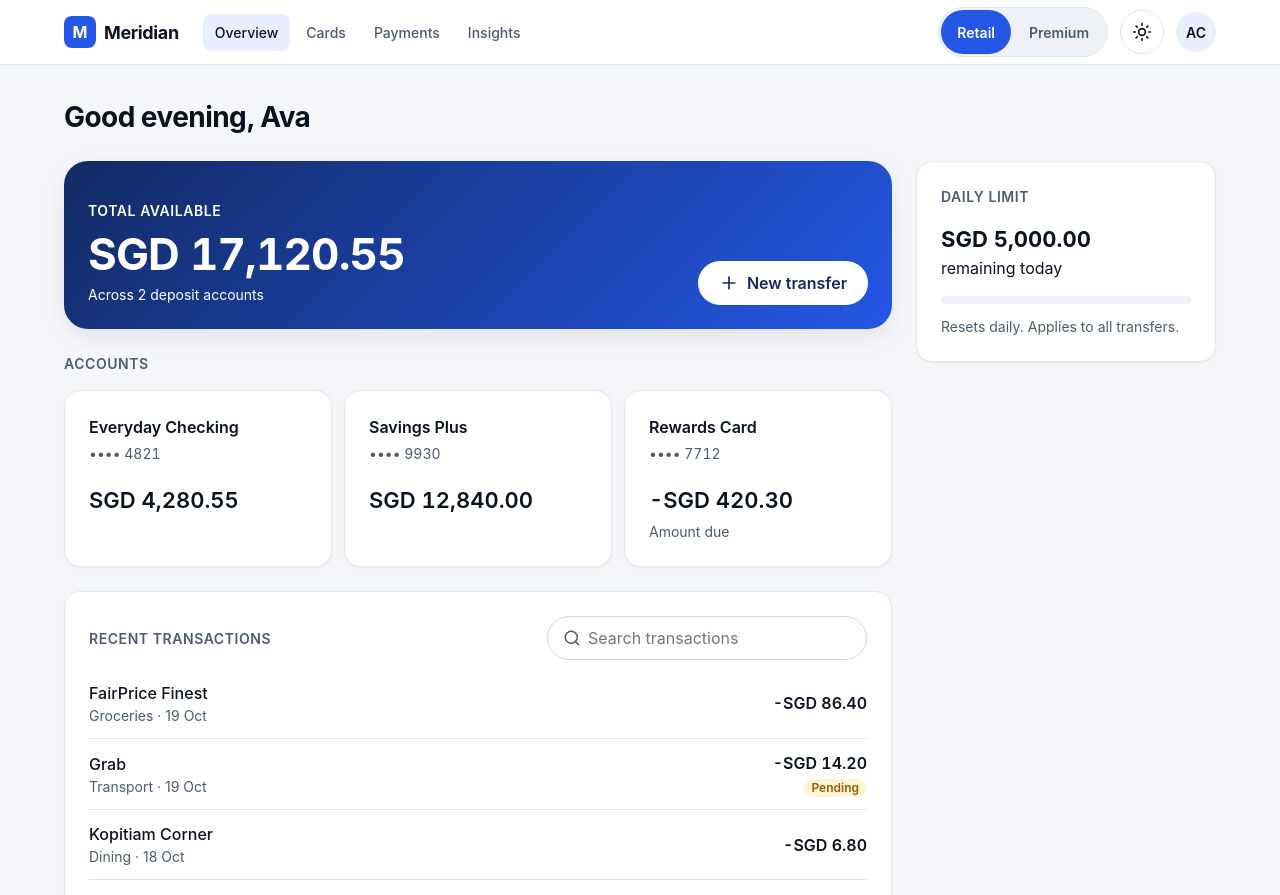
Scenario: dashboard › filters transactions by category, and clears a search with no matches
# Category match, ignoring case.
In the search field labelled "Search transactions": (707, 638) top-left (547, 616), bottom-right (867, 660), type "DINING"
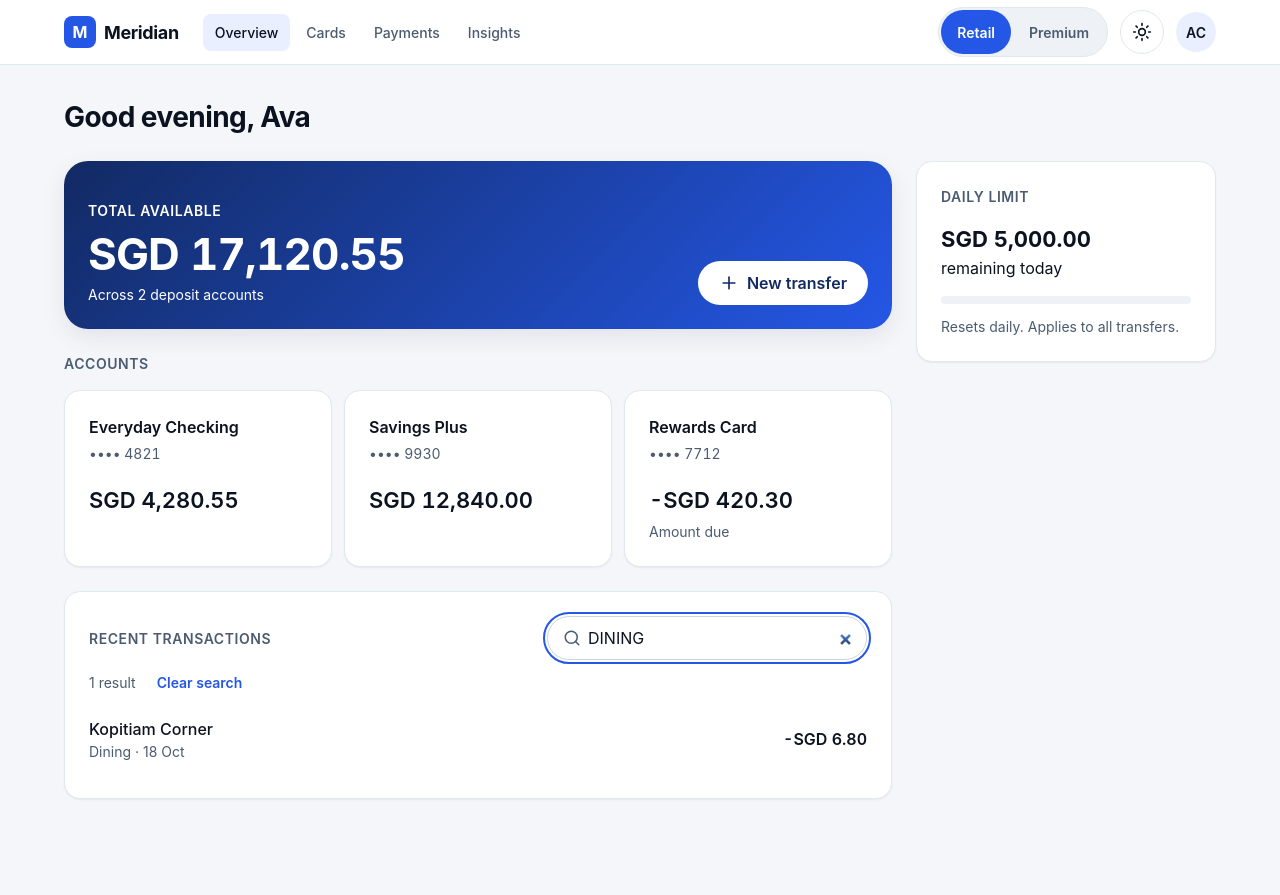
Expected: the text "Kopitiam Corner" is shown, top-left (89, 716), bottom-right (213, 740)
Expected: the text "FairPrice Finest" is gone
Expected: the text "1 result" is shown, top-left (89, 672), bottom-right (136, 692)
Replace the text in the search field named "Search transactions" with "zzz": (707, 638) top-left (547, 616), bottom-right (867, 660)
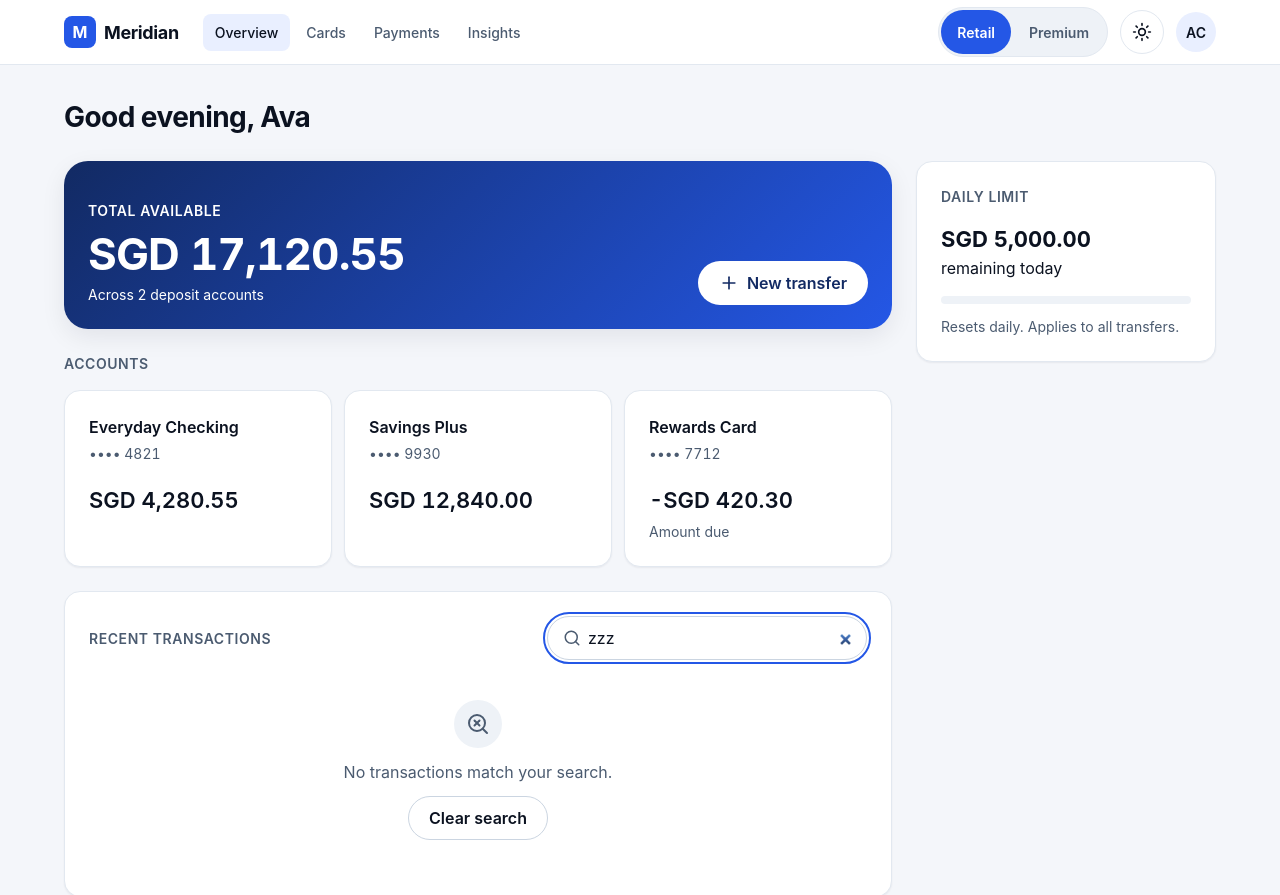
Expected: the text "No transactions match your search." is shown, top-left (344, 760), bottom-right (612, 784)
Click the button "Clear search": (478, 818) top-left (408, 796), bottom-right (548, 840)
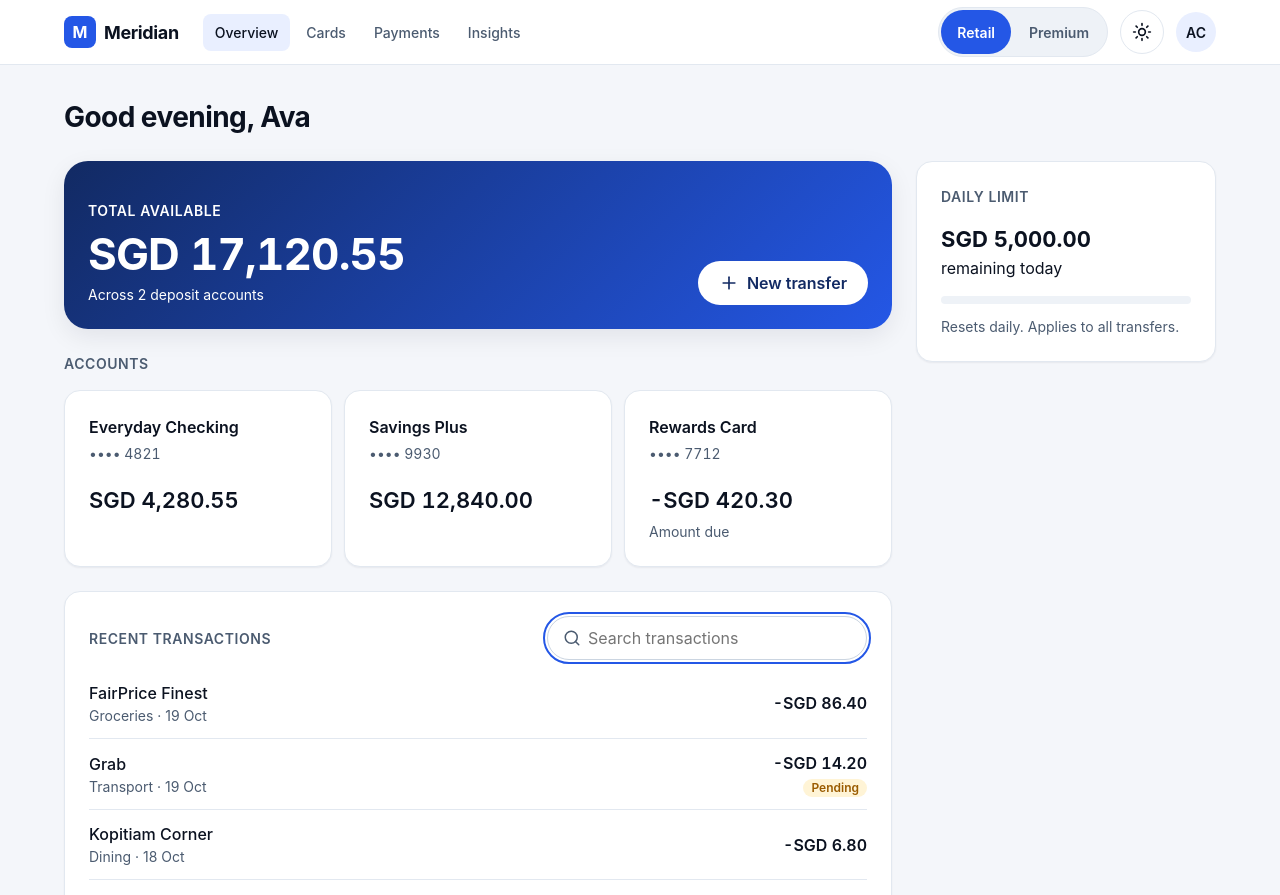
Expected: the text "FairPrice Finest" is shown, top-left (89, 680), bottom-right (208, 704)
